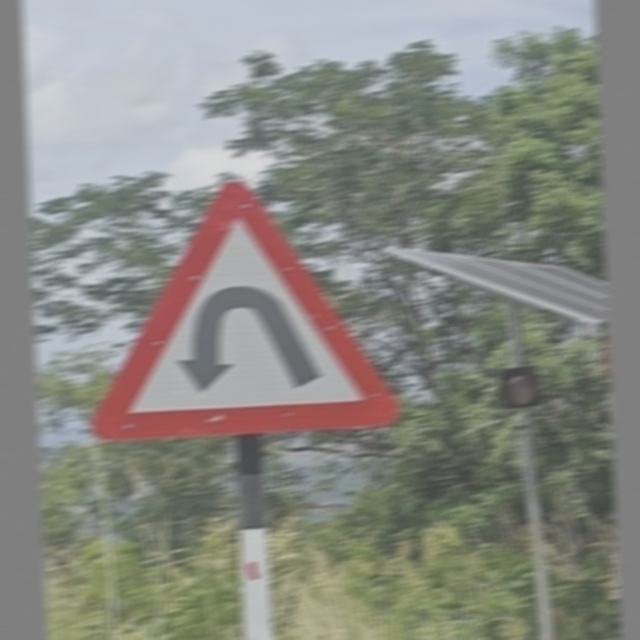Left_Hair_Pin_Bend: (78, 175, 405, 438)
